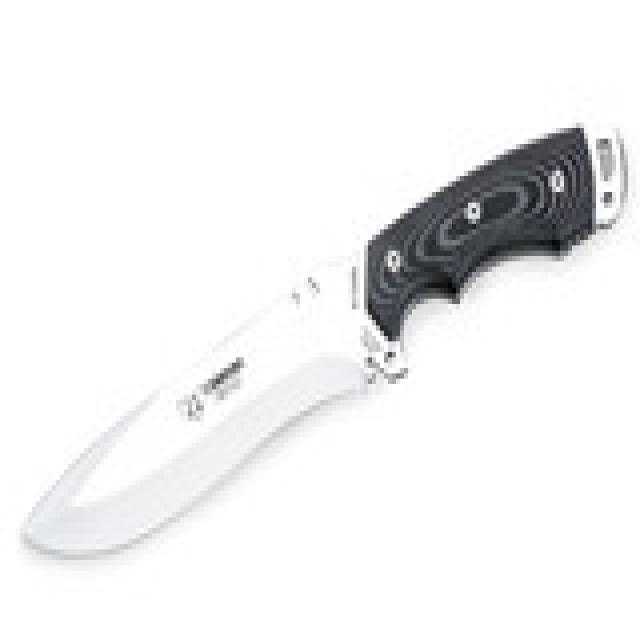Knife: (13, 106, 634, 576)
